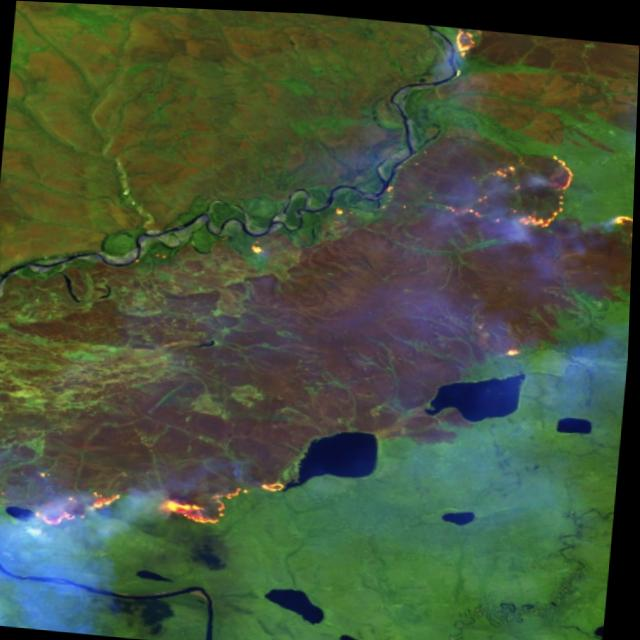fire: (33, 445, 300, 550), (434, 135, 583, 229), (448, 22, 493, 77), (128, 244, 181, 275), (375, 168, 414, 210), (610, 201, 635, 237), (244, 235, 278, 258), (324, 200, 358, 219), (500, 343, 534, 358)
